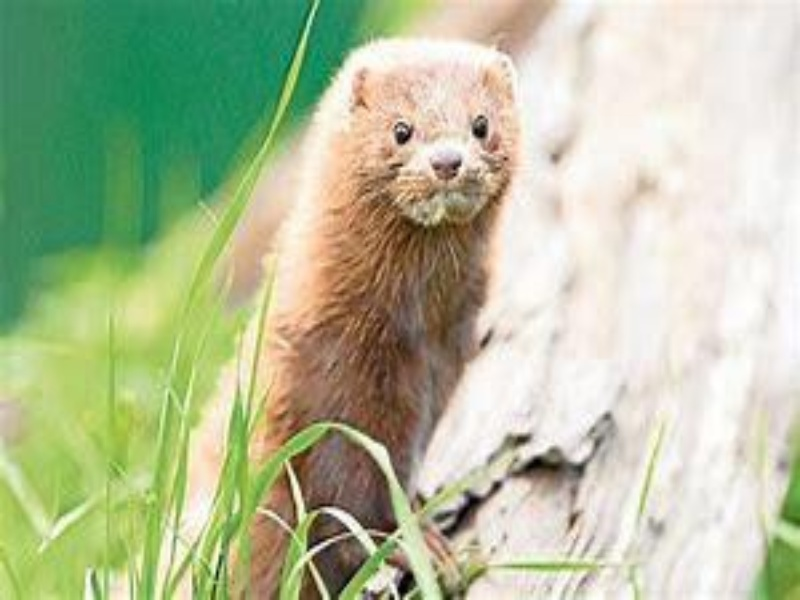minkish: (98, 33, 521, 596)
